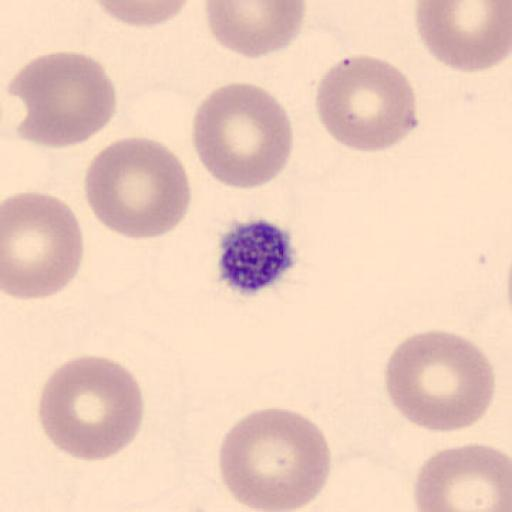Platelet: (214, 216, 299, 296)
RBC: (382, 328, 496, 435), (218, 406, 332, 512), (36, 353, 144, 462), (84, 136, 193, 242), (190, 80, 294, 191), (8, 51, 117, 148), (314, 54, 418, 154), (2, 190, 85, 301), (414, 441, 512, 512), (415, 0, 511, 72), (204, 0, 308, 61), (88, 0, 195, 28)
